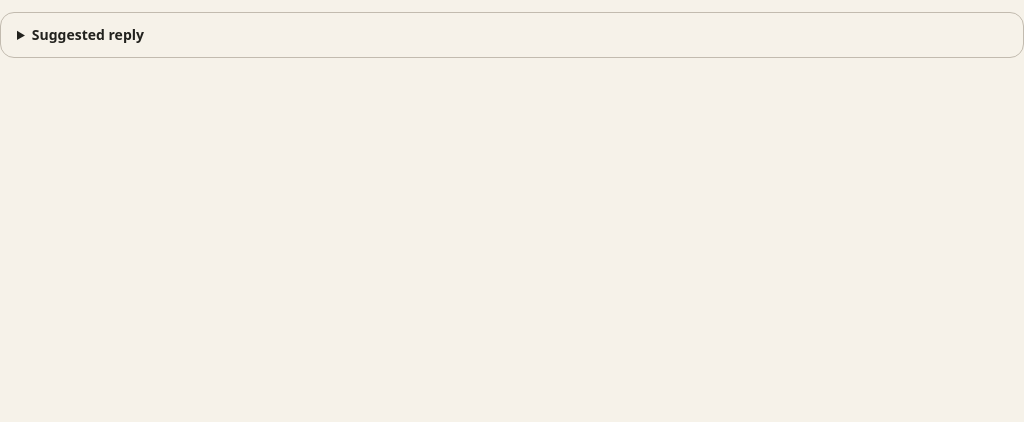
Test: keeps the reply readable and offers manual copying if clipboard access fails
Click the heading "Suggested reply".
click(88, 34)  # box [32,25,144,44]
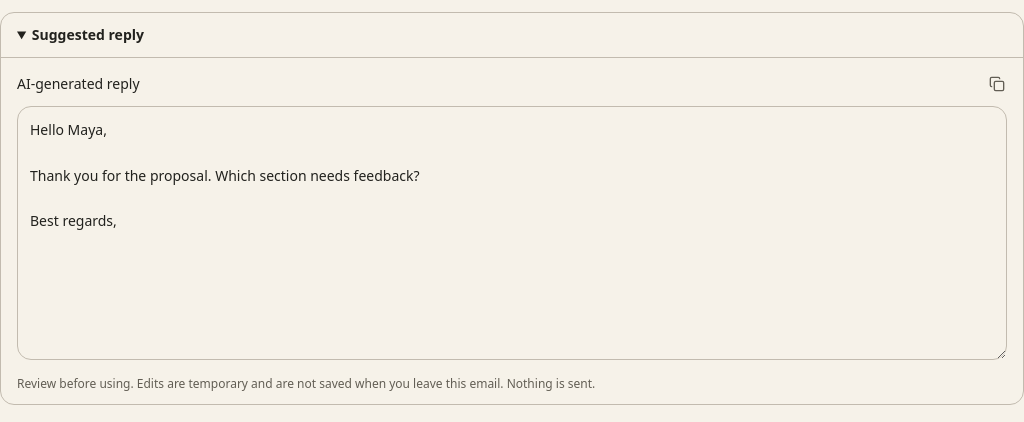
Click the button named "Copy suggested reply".
click(997, 84)  # box [975,62,1019,106]
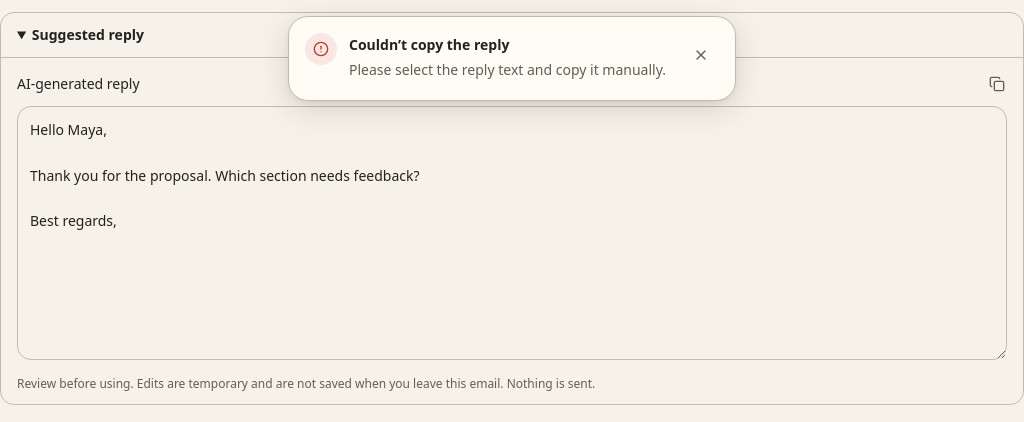
expect the button named "Copy suggested reply" is enabled: met, box [975,62,1019,106]
expect the text "Please select the reply text and copy it manually." is shown: met, box [349,59,667,82]
